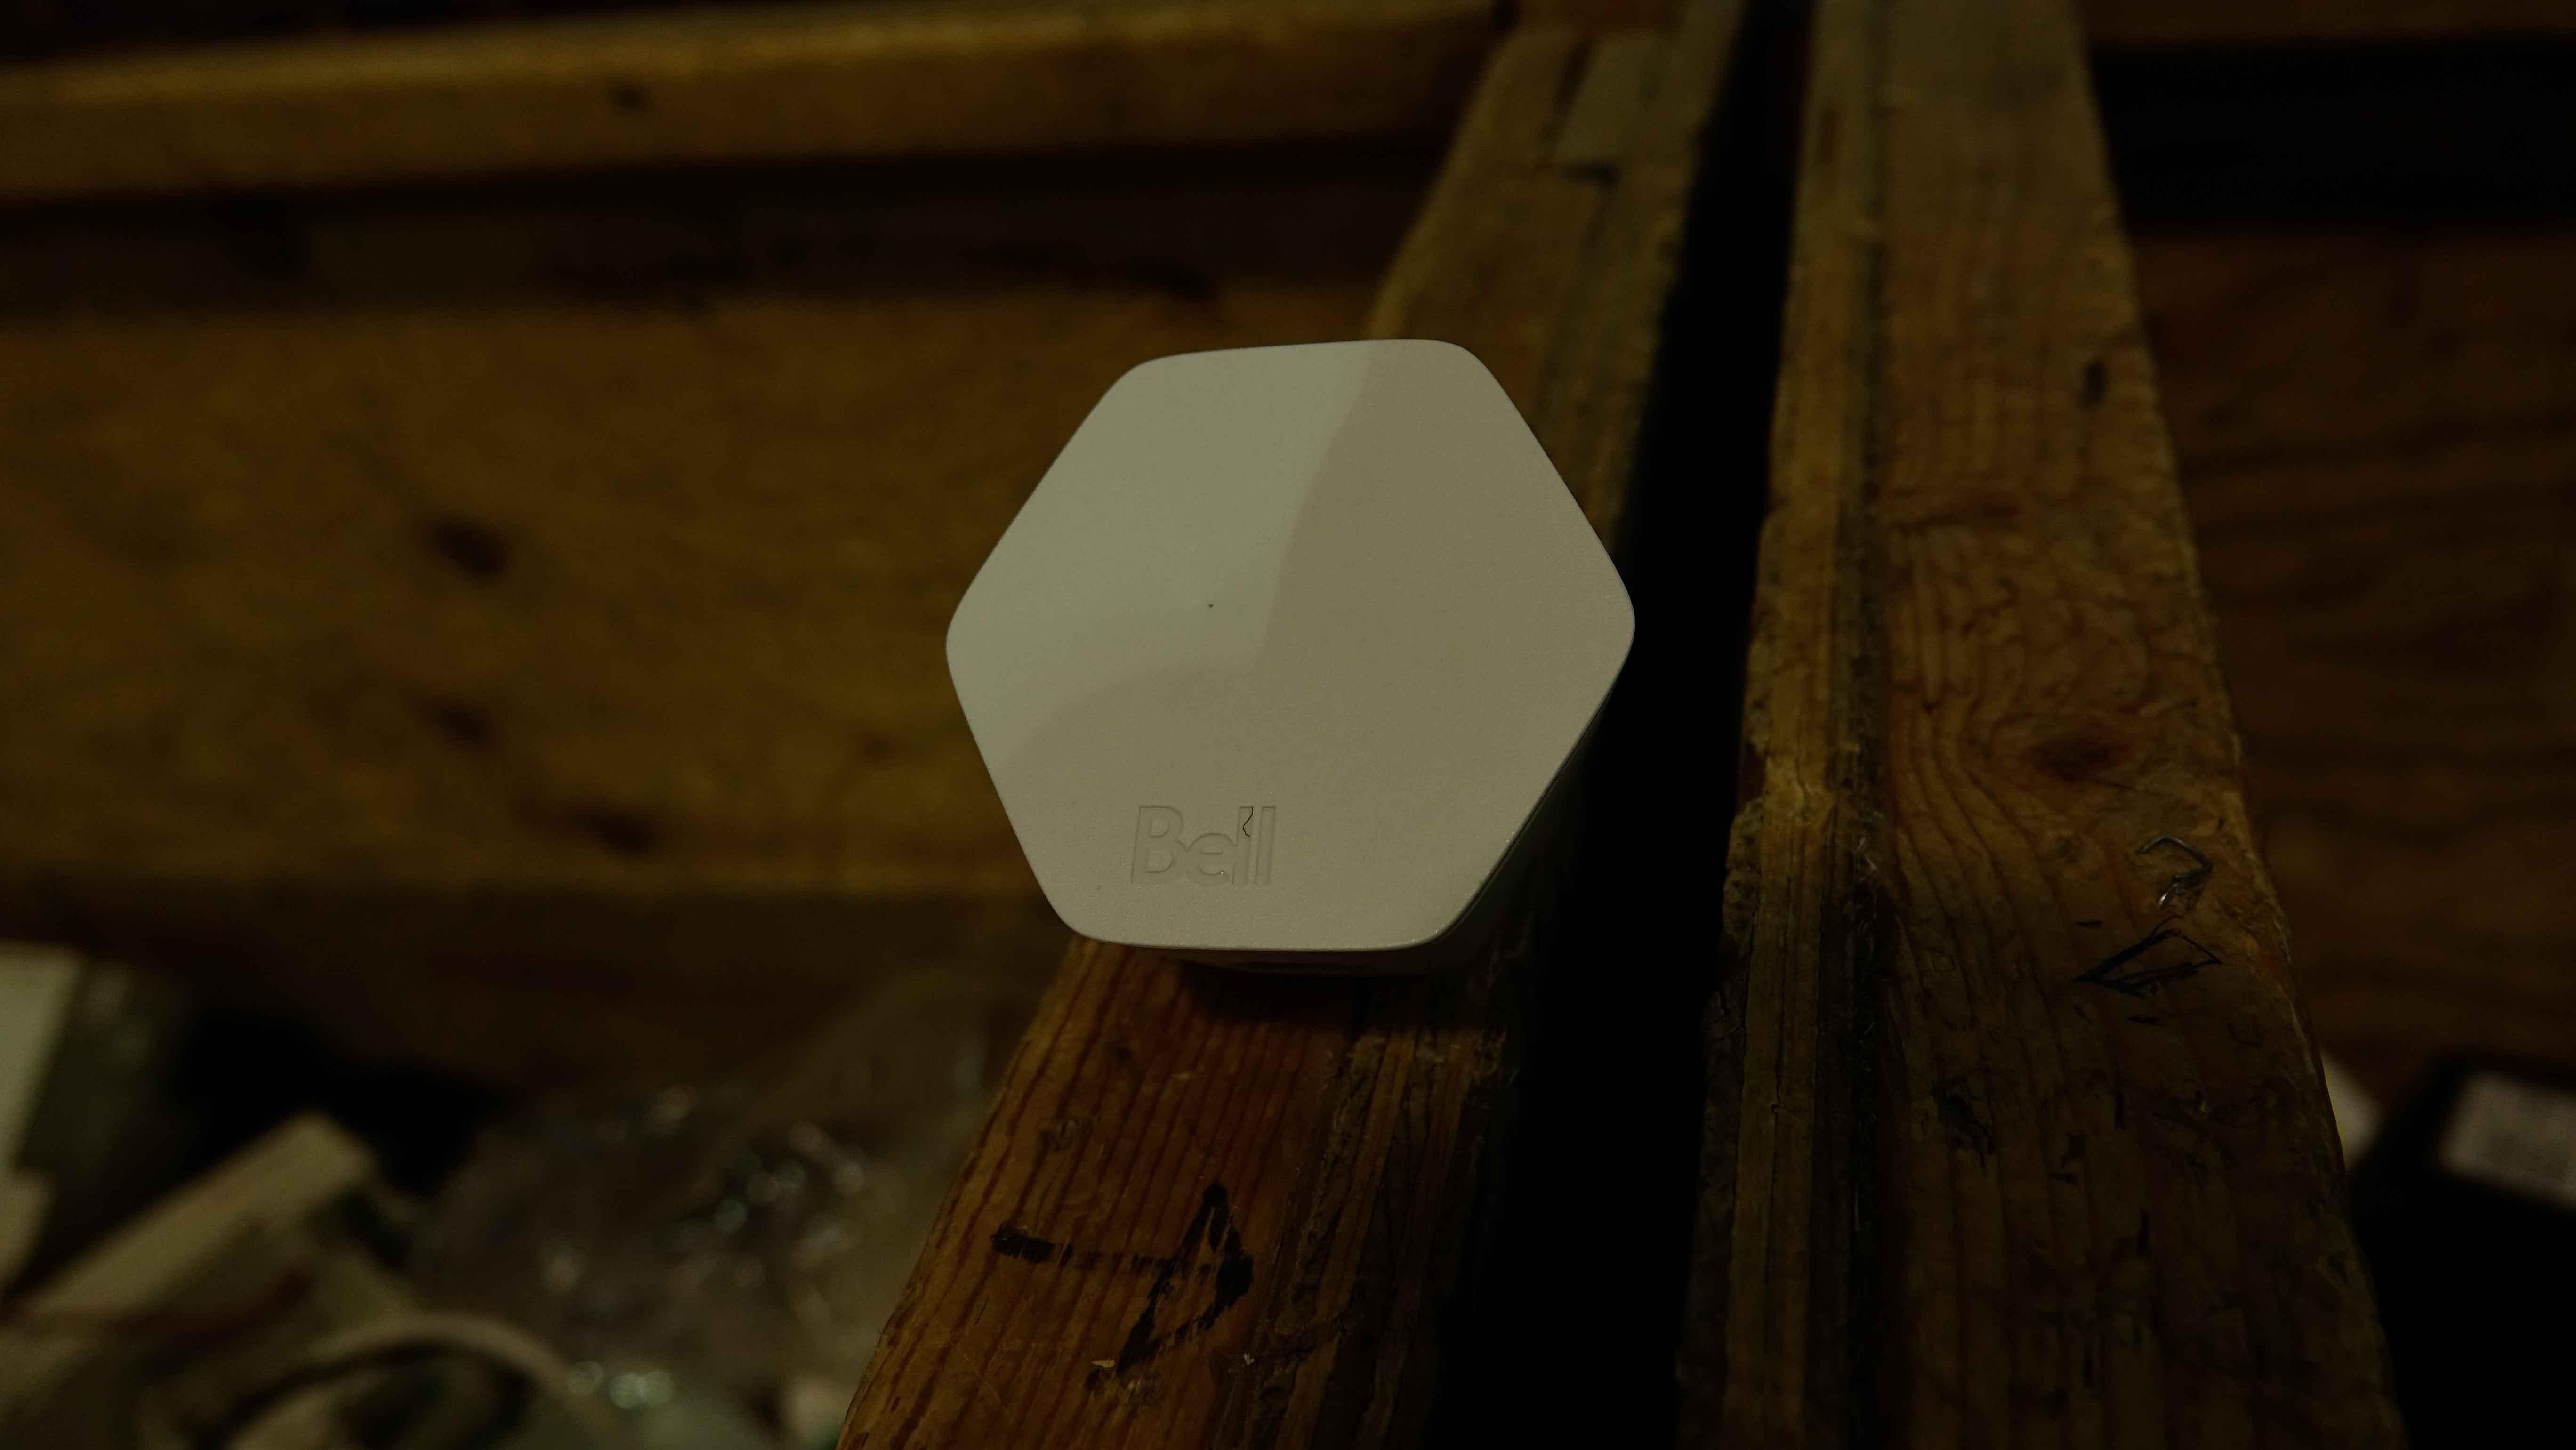pod: (936, 331, 1652, 988)
